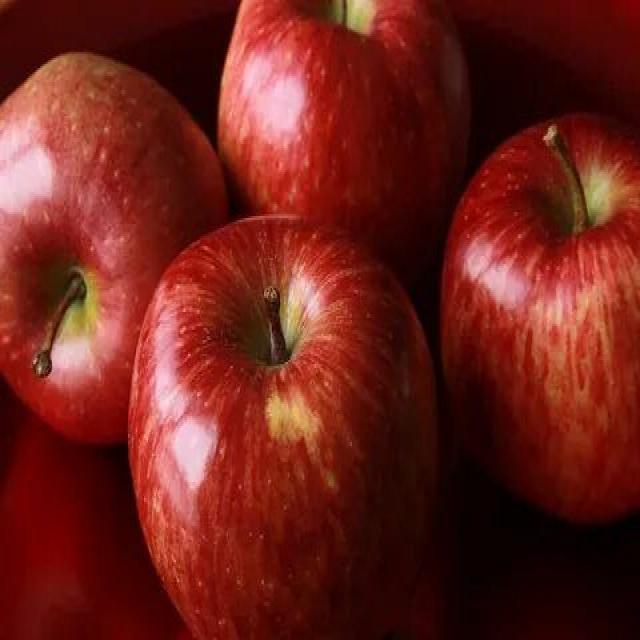Fresh Apple: (125, 235, 435, 640), (448, 123, 640, 493), (0, 70, 200, 392), (206, 22, 482, 230)
